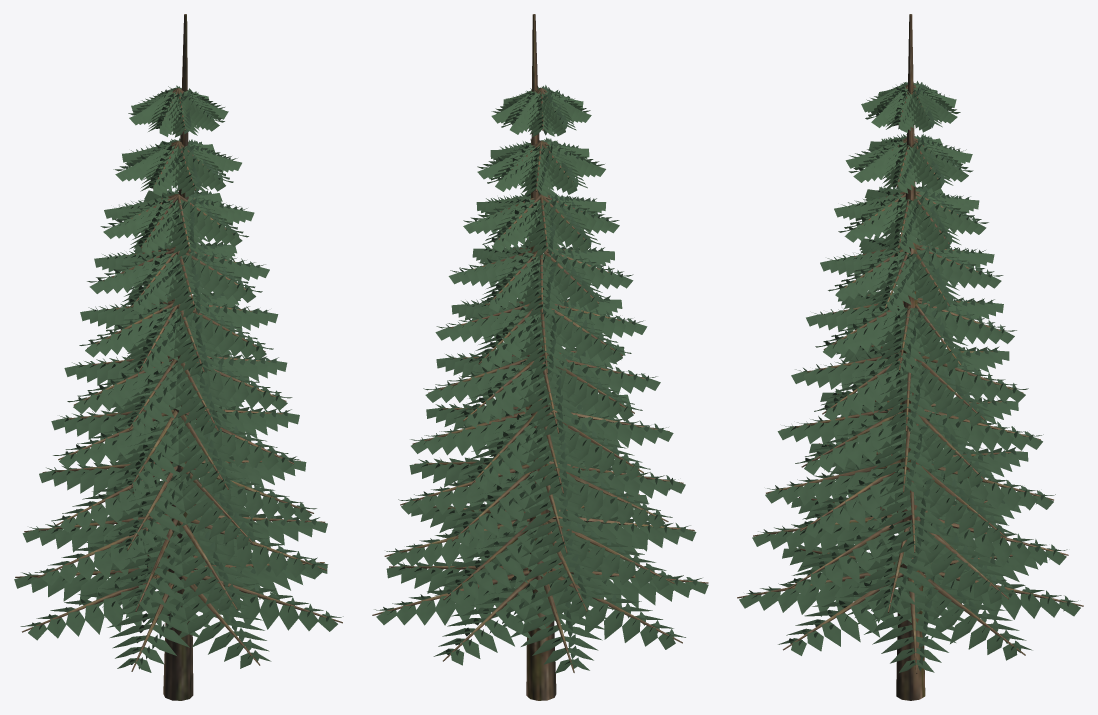
File: Pine_B.glb
The picture shows the model from 3 angles, left to right: view 1: azimuth 30°, elevation 25°; view 2: azimuth 150°, elevation 25°; view 3: azimuth 270°, elevation 25°; orthographic projection.
Visible parts, largest first — view 1: Pine_B; view 2: Pine_B; view 3: Pine_B.
Part boxes in pixels (bbox=[...]): Pine_B: bbox=[14, 14, 343, 700]; Pine_B: bbox=[372, 14, 708, 700]; Pine_B: bbox=[737, 14, 1083, 700].
Size of the model in its own units: 4.09 by 8.9 by 4.1.
1 material, 1 textured.
